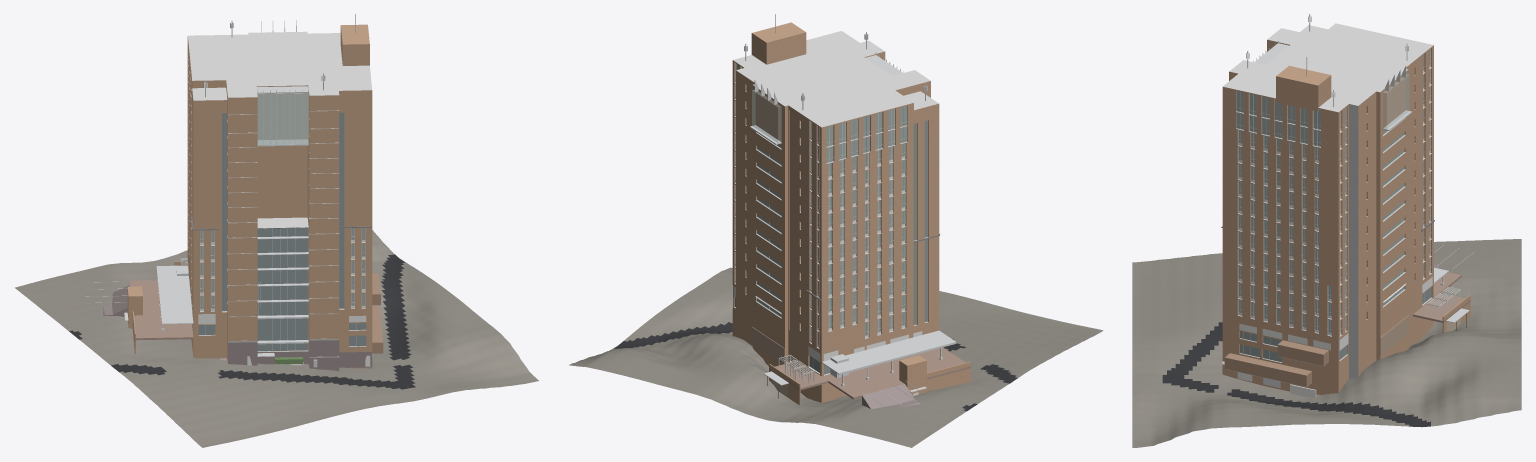
The model's file is tower75.glb.
The picture shows the model from 3 angles, left to right: view 1: azimuth 30°, elevation 25°; view 2: azimuth 150°, elevation 25°; view 3: azimuth 270°, elevation 25°; orthographic projection. The views are drawn at different scales.
Visible parts, largest first — view 1: tower75_T, terrain, glazing_f9_0, glazing_room_f9_0, composite_23_glass_front, composite_23_glass_back, composite_0_floor, composite_1_roof, composite_50_penthouse, glazing_f5_0, glazing_f13_0, glazing_room_f5_0 (+4 smaller); view 2: tower75_T, terrain, composite_0_floor, composite_1_roof, composite_50_penthouse, box_43, composite_3_shaft, composite_2_upper_flight, composite_46_floor, composite_0_front_wall_south, band_f19_4; view 3: tower75_T, terrain, composite_50_penthouse, composite_27_band, box_43, composite_26_band, composite_46_floor, band_f19_4, footing_T.
Part boxes in pixels (left/top/right/bottom): tower75_T: left=187, top=31, right=372, bottom=364; terrain: left=15, top=230, right=538, bottom=447; glazing_f9_0: left=257, top=227, right=308, bottom=351; glazing_room_f9_0: left=257, top=227, right=307, bottom=350; composite_23_glass_front: left=257, top=93, right=308, bottom=145; composite_23_glass_back: left=258, top=92, right=307, bottom=139; composite_0_floor: left=129, top=280, right=193, bottom=340; composite_1_roof: left=157, top=265, right=193, bottom=324; composite_50_penthouse: left=340, top=24, right=369, bottom=65; glazing_f5_0: left=222, top=113, right=227, bottom=311; glazing_f13_0: left=339, top=112, right=344, bottom=308; glazing_room_f5_0: left=222, top=113, right=226, bottom=310; tower75_T: left=732, top=31, right=939, bottom=402; terrain: left=569, top=267, right=1103, bottom=447; composite_0_floor: left=822, top=347, right=971, bottom=399; composite_1_roof: left=821, top=330, right=955, bottom=373; composite_50_penthouse: left=751, top=22, right=806, bottom=64; box_43: left=752, top=90, right=781, bottom=142; composite_3_shaft: left=899, top=355, right=926, bottom=395; composite_2_upper_flight: left=862, top=384, right=914, bottom=409; composite_46_floor: left=769, top=361, right=828, bottom=390; composite_0_front_wall_south: left=927, top=368, right=971, bottom=391; band_f19_4: left=752, top=327, right=784, bottom=364; tower75_T: left=1222, top=23, right=1433, bottom=392; terrain: left=1132, top=239, right=1521, bottom=447; composite_50_penthouse: left=1276, top=65, right=1331, bottom=111; composite_27_band: left=1224, top=353, right=1311, bottom=386; box_43: left=1383, top=74, right=1409, bottom=129; composite_26_band: left=1277, top=340, right=1328, bottom=365; composite_46_floor: left=1413, top=293, right=1470, bottom=322; band_f19_4: left=1380, top=315, right=1409, bottom=355; footing_T: left=1222, top=329, right=1429, bottom=394.
Bounding box in the file's own units: 93 × 86.87 × 90.
Materials: 69 (23 with a texture image).
